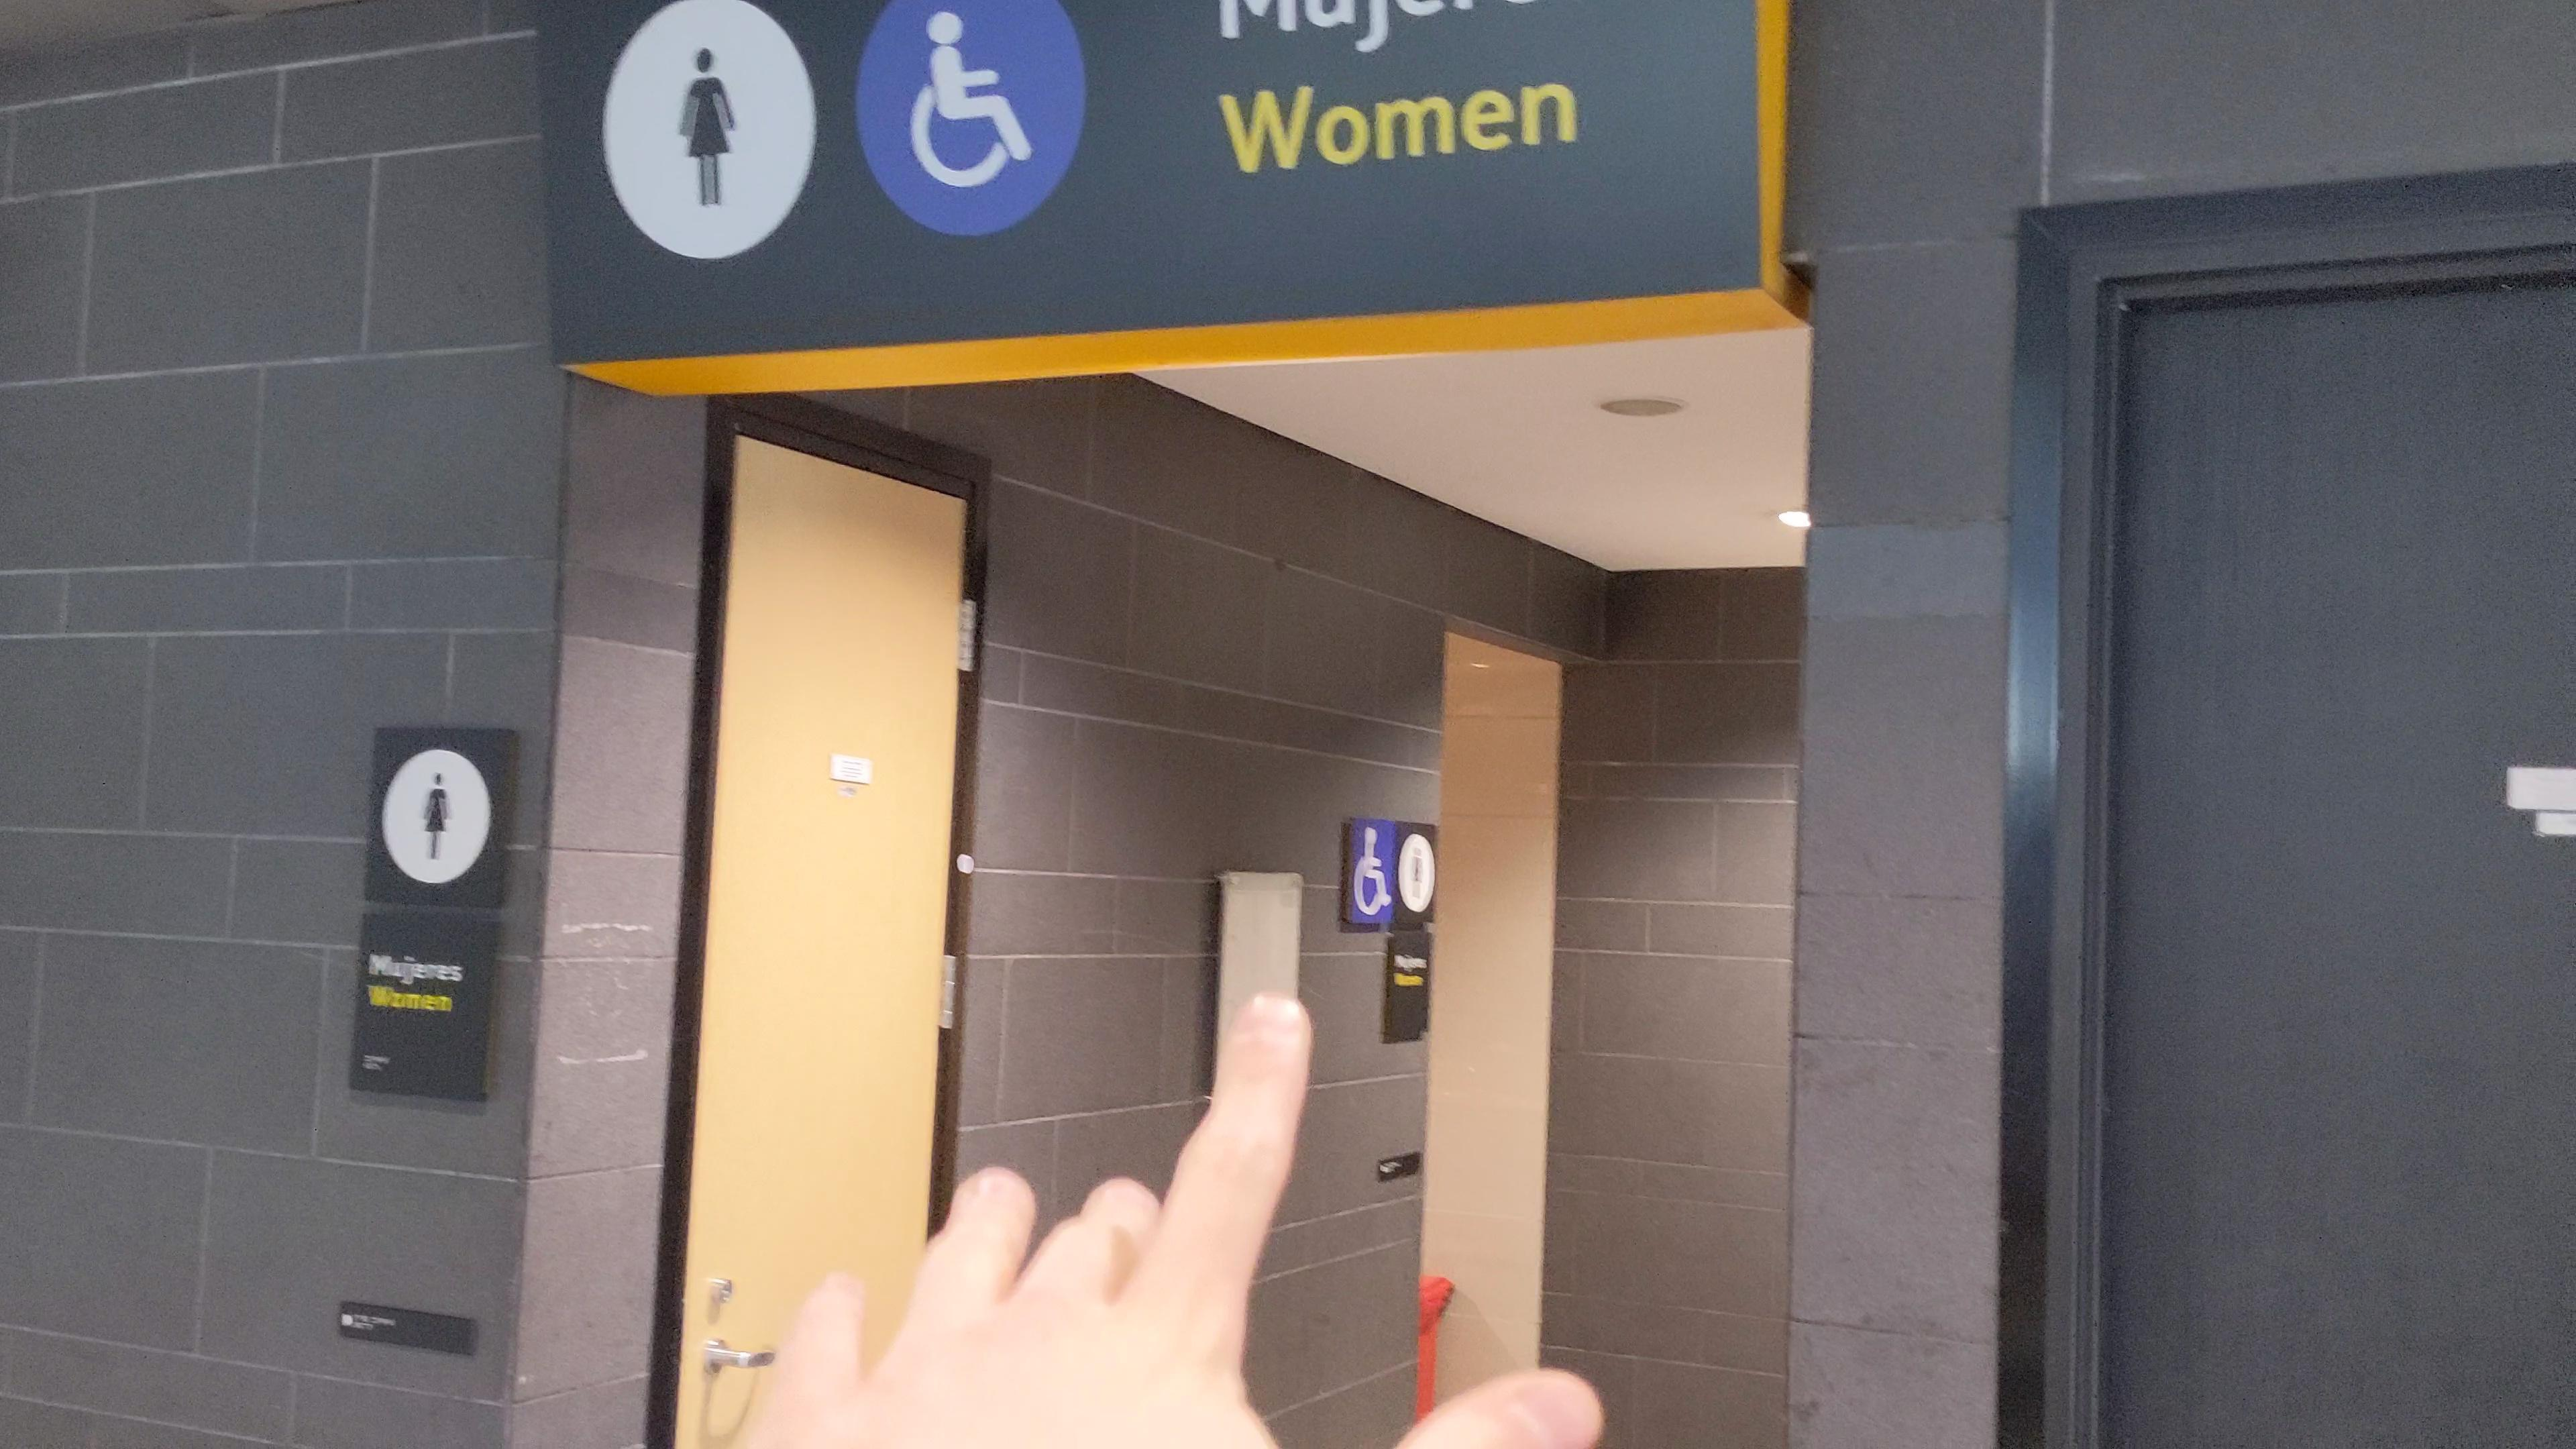handicapped symbol: (892, 7, 1042, 193), (1353, 826, 1392, 916)
